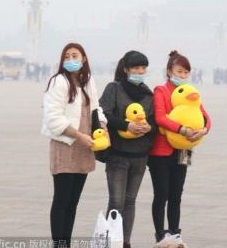person: (149, 47, 215, 248), (39, 38, 102, 248), (92, 48, 152, 248), (33, 62, 40, 82), (24, 62, 31, 82), (214, 67, 221, 86), (196, 68, 204, 84), (41, 62, 47, 80), (221, 67, 227, 84), (191, 69, 196, 84)
